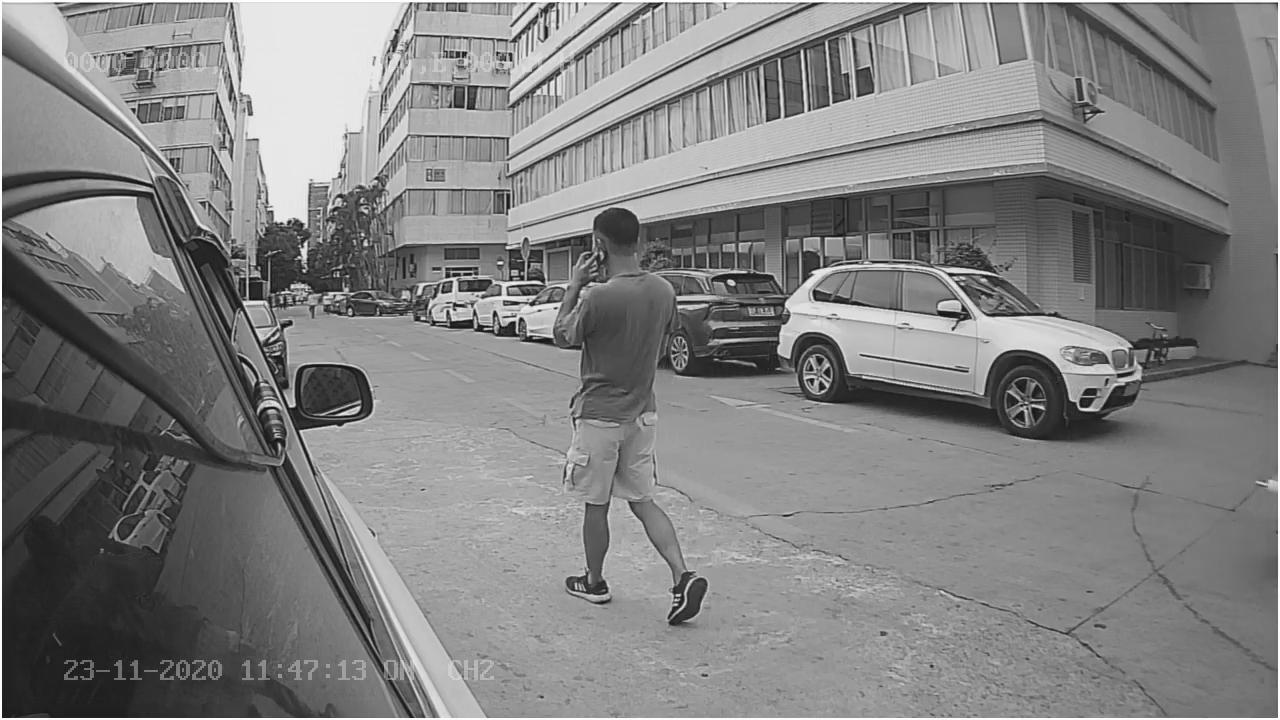person: (556, 194, 716, 636)
